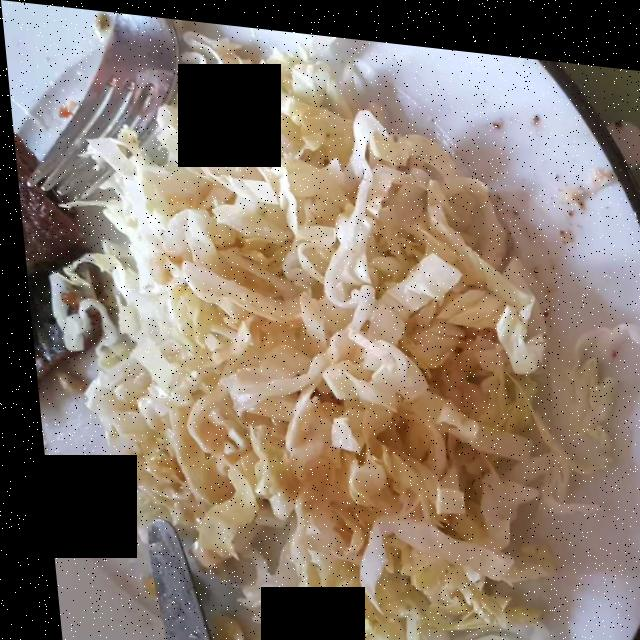white-cabbage: (52, 48, 599, 640)
